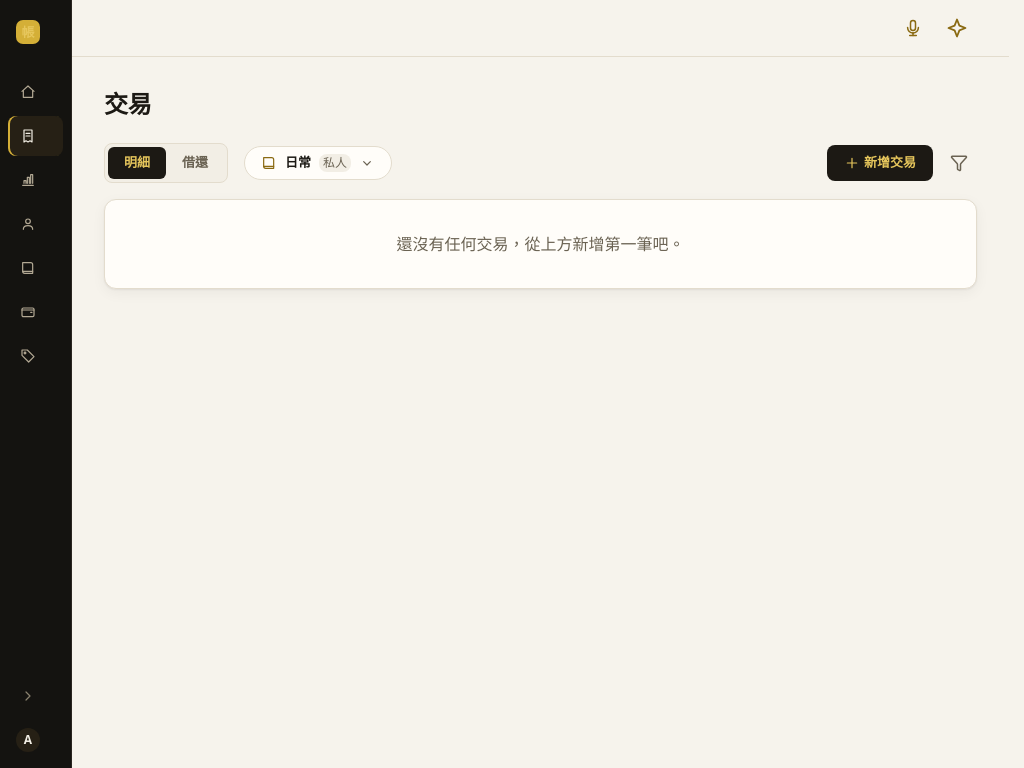
Test case: AI drafts on the transactions page › W246 portals the icon and expanded input to the toolbar and appends returned drafts
Click the button named "AI 記帳". click: (957, 28)
box: [937,8,977,48]
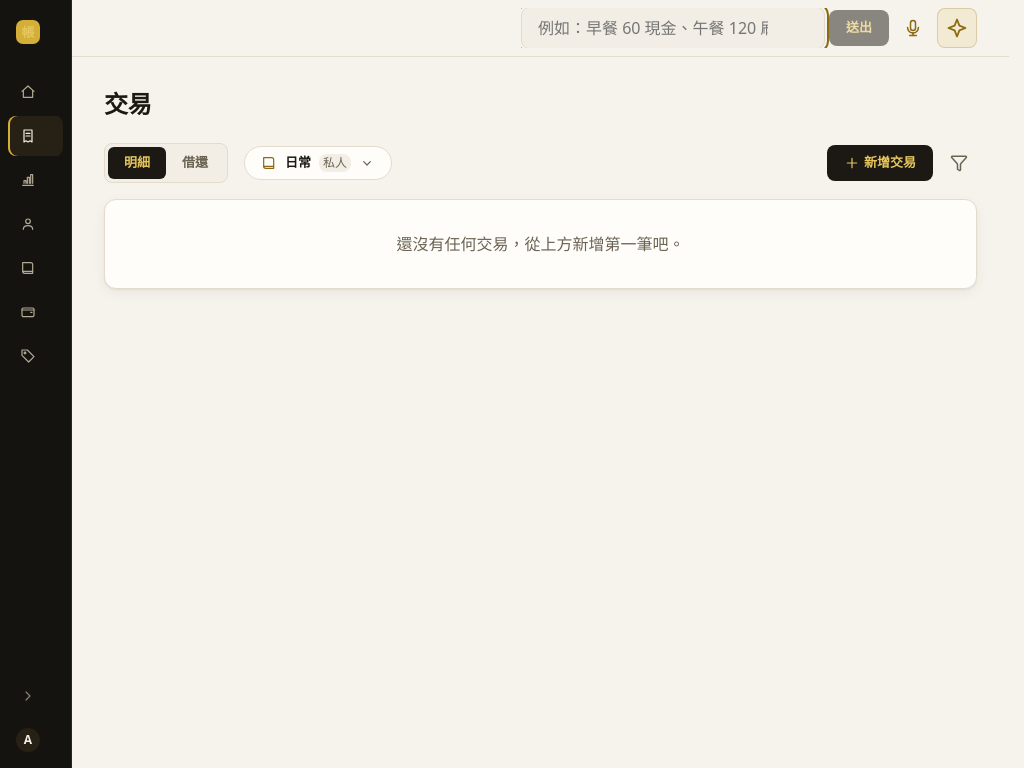
Type "早餐 60 現金" into the field named "用一句話記帳". click: (673, 28)
box: [521,7,825,49]
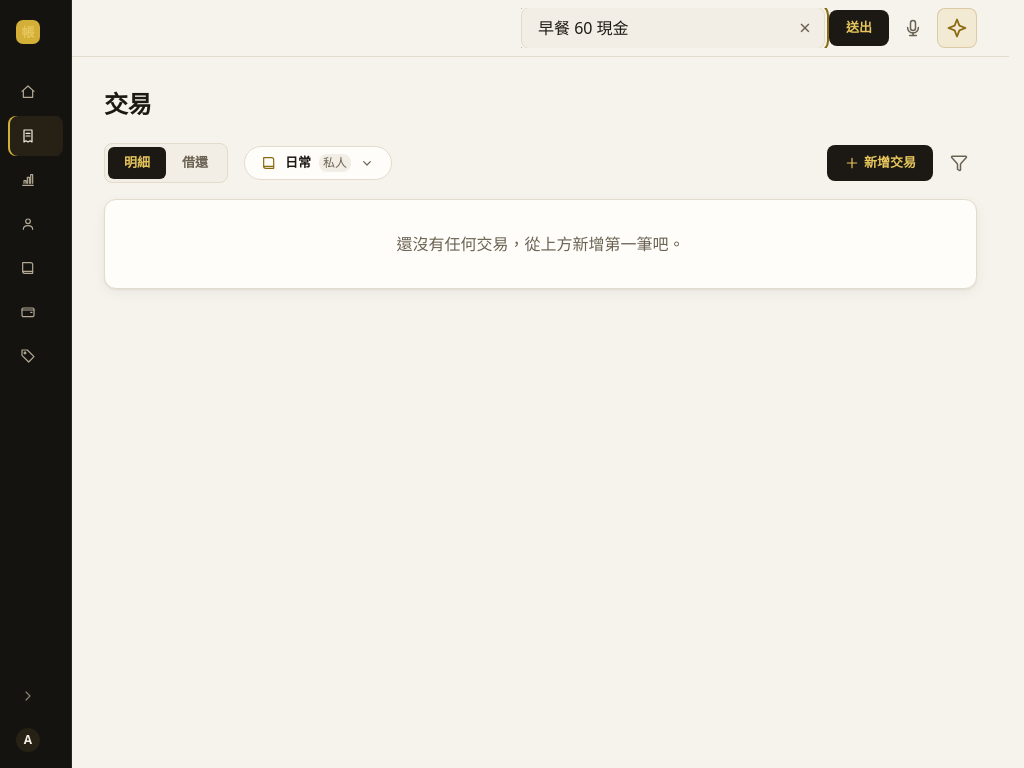
Click the button "送出". click: (859, 28)
box: [829,10,889,46]
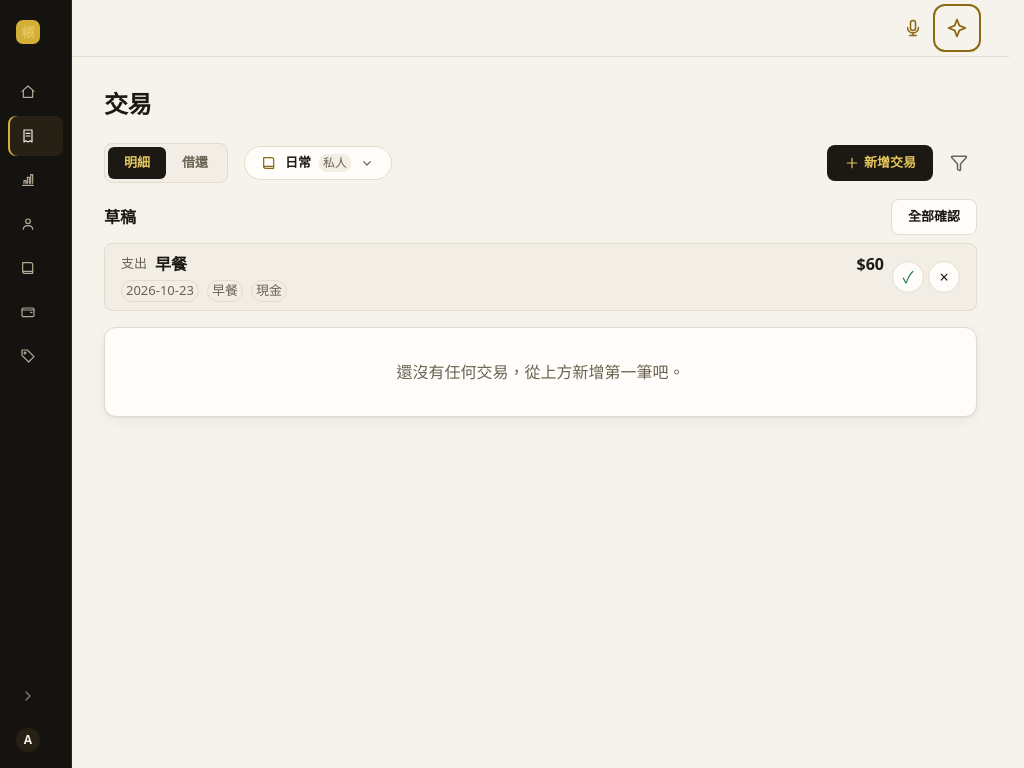
Check: the button named "確認草稿：早餐" is shown, box [892,261,924,293]
